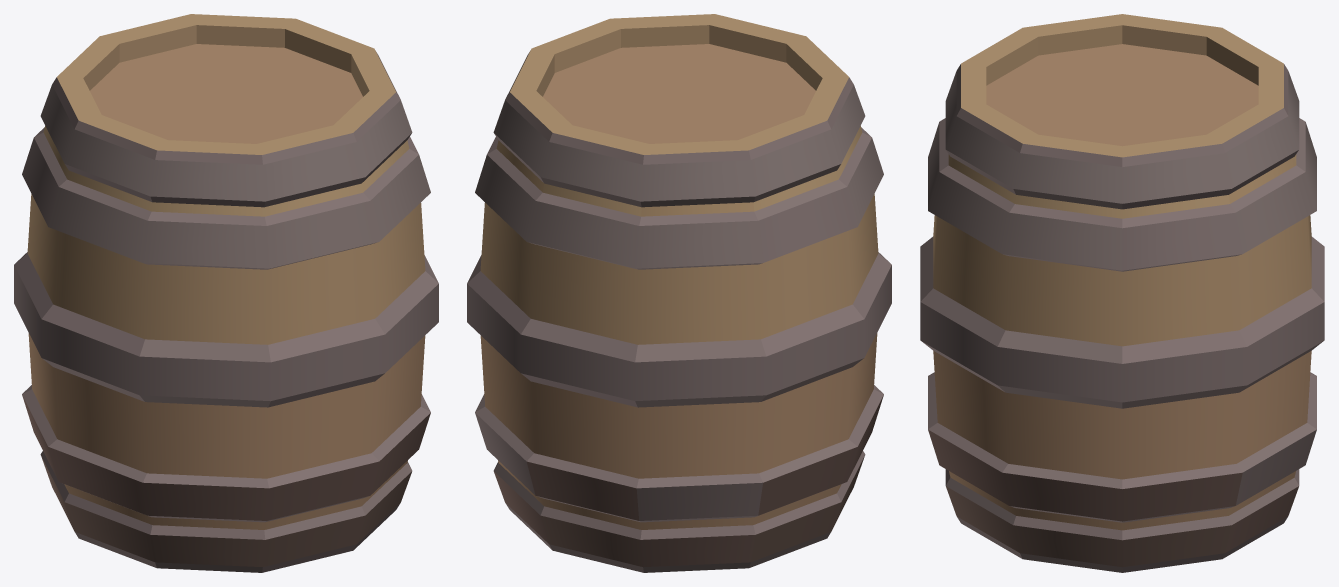
File: barrel.glb
3 views of the same model, side by side, from view 1: azimuth 30°, elevation 25°; view 2: azimuth 150°, elevation 25°; view 3: azimuth 270°, elevation 25° (orthographic).
Parts seen in each view (by area): view 1: Barrel.001; view 2: Barrel.001; view 3: Barrel.001.
Boxes of the visible parts, box(x1,y1,x2,y2) form: Barrel.001: box(14, 14, 438, 572); Barrel.001: box(467, 14, 891, 572); Barrel.001: box(920, 14, 1324, 572).
Bounding box in the file's own units: 0.6614 × 0.7137 × 0.629.
